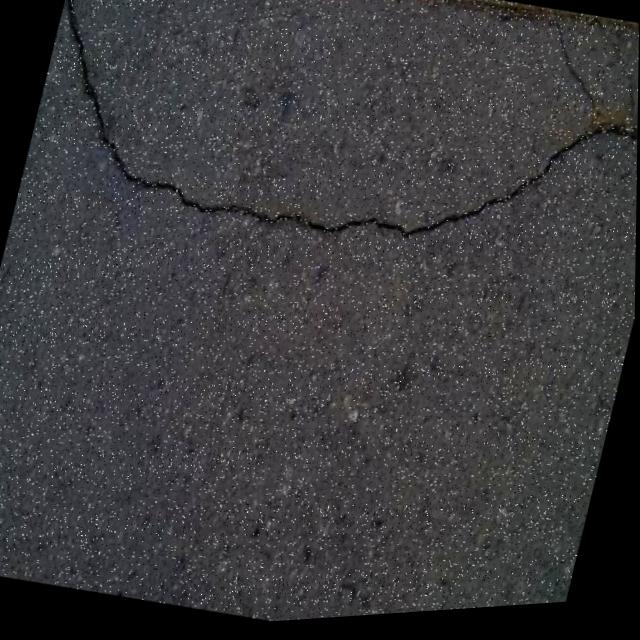Crack: (13, 0, 640, 351)
